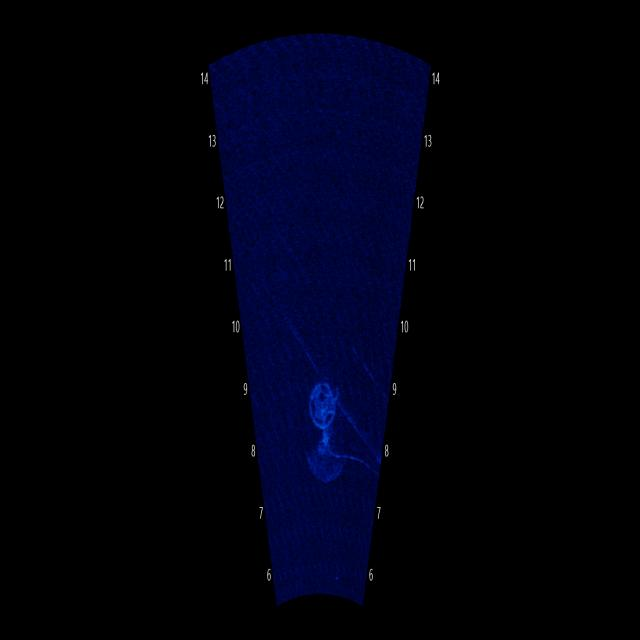circle: (303, 361, 348, 437)
